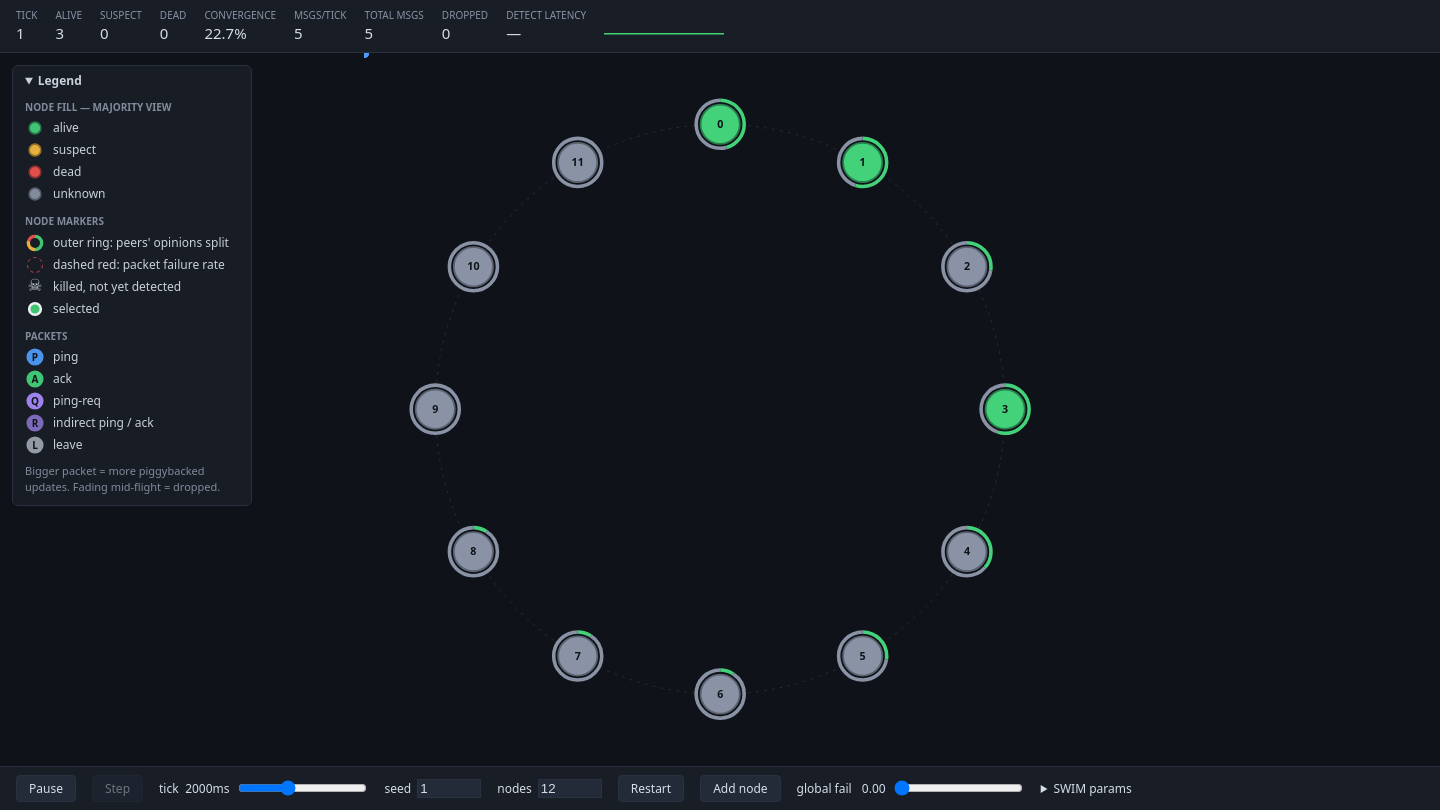
App › step advances the tick counter
Click the button "Pause".
click(46, 788)  # box [16, 775, 76, 802]
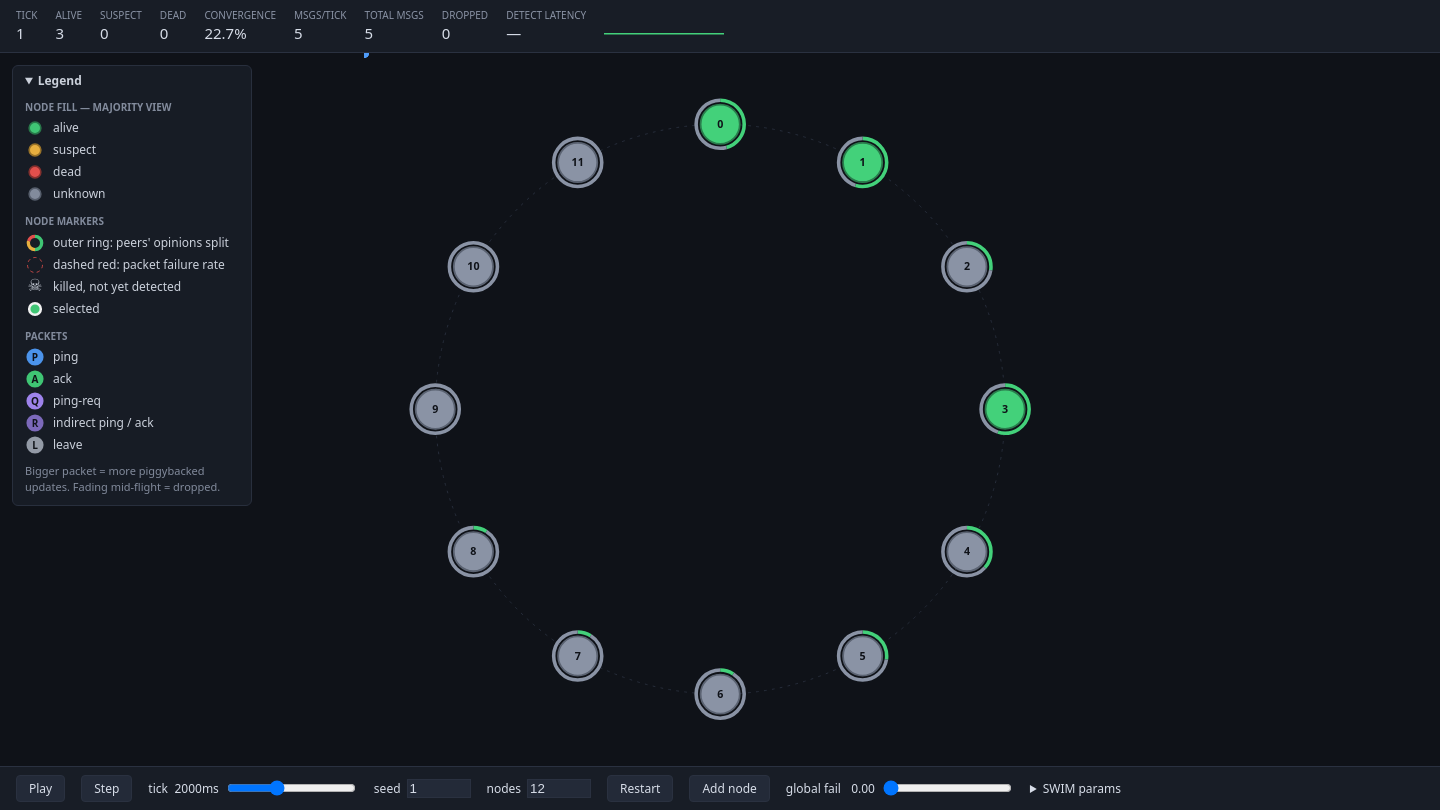
Click the button "Step".
click(107, 788)  # box [81, 775, 132, 802]
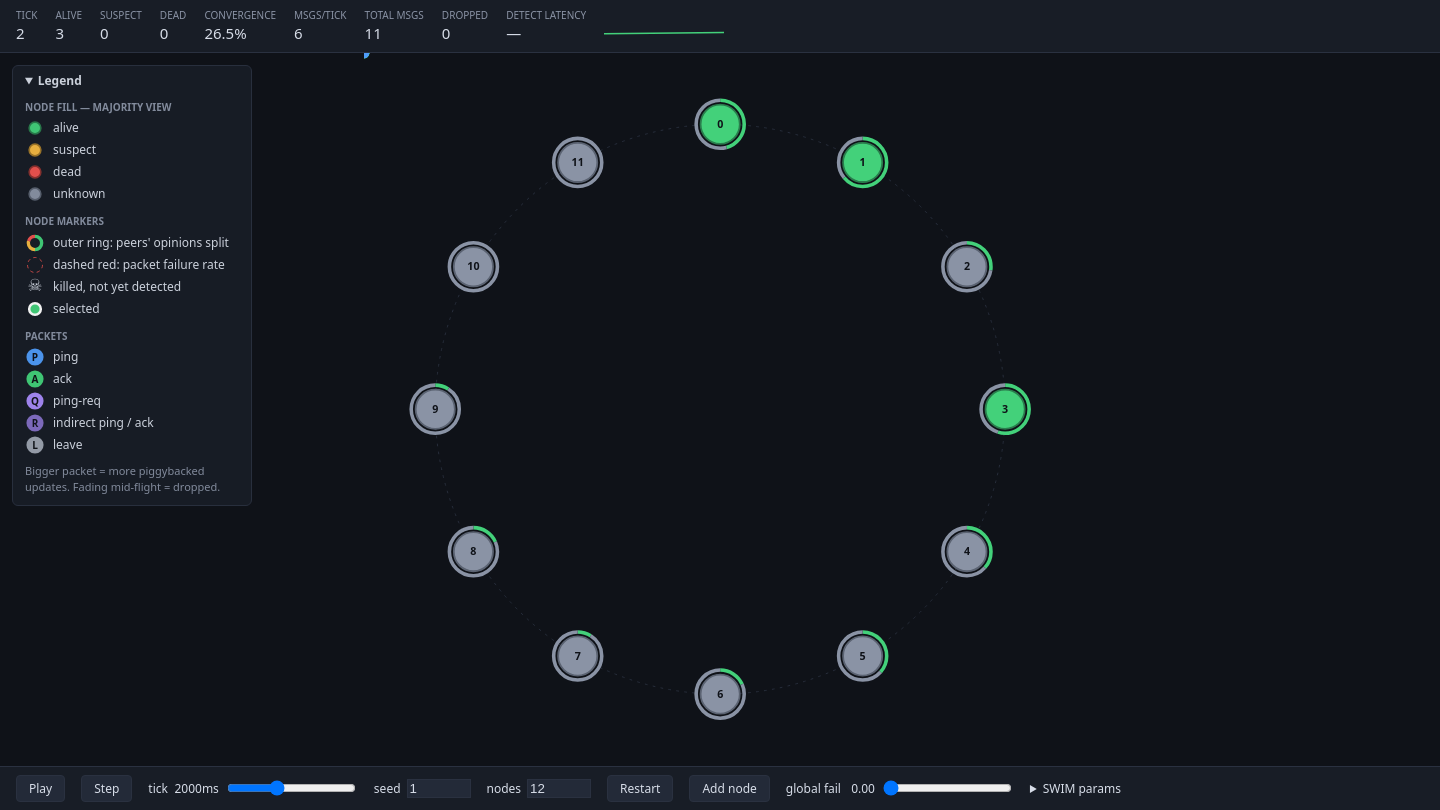
Expected: the element with test id "tick" no longer shows "1"
